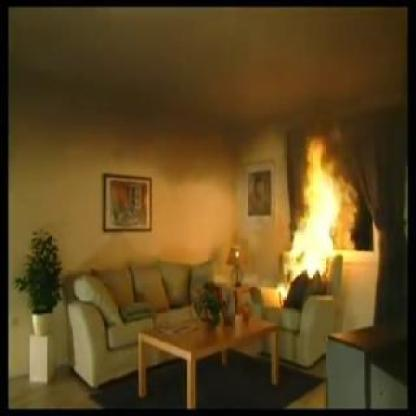Fire: (284, 130, 357, 292)
